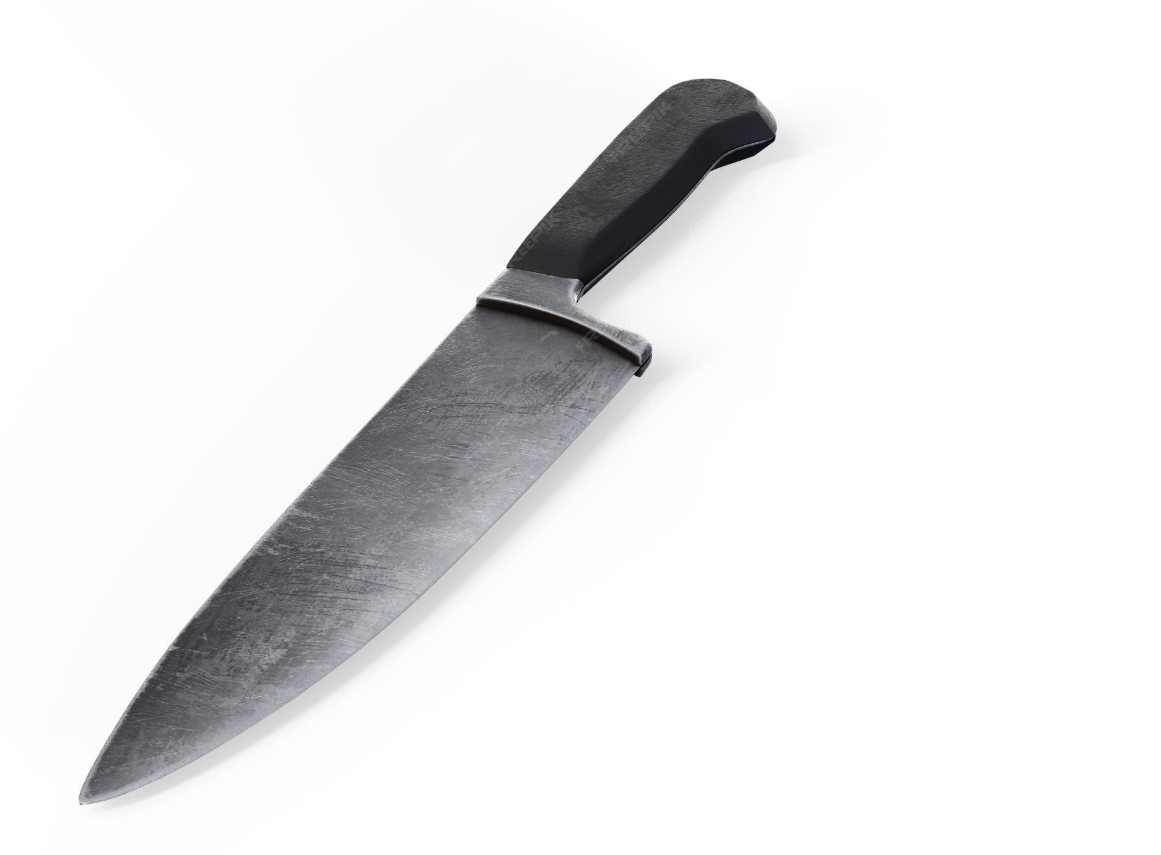knife_70.png: (51, 52, 797, 821)
